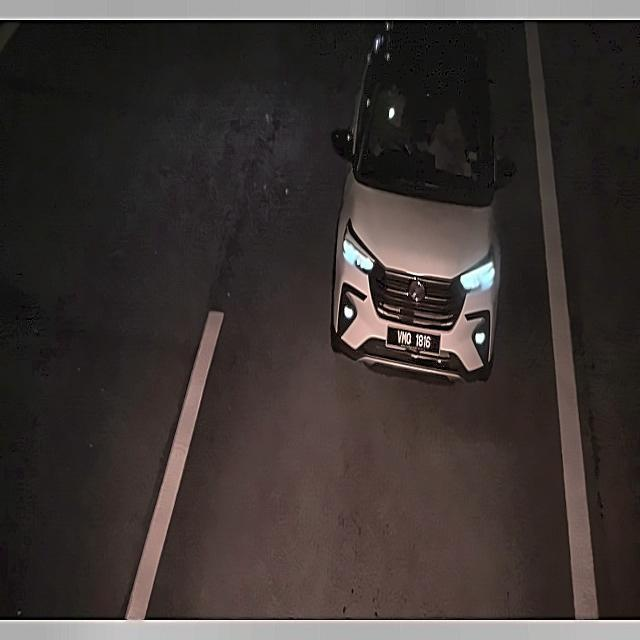car: (387, 324, 439, 360)
